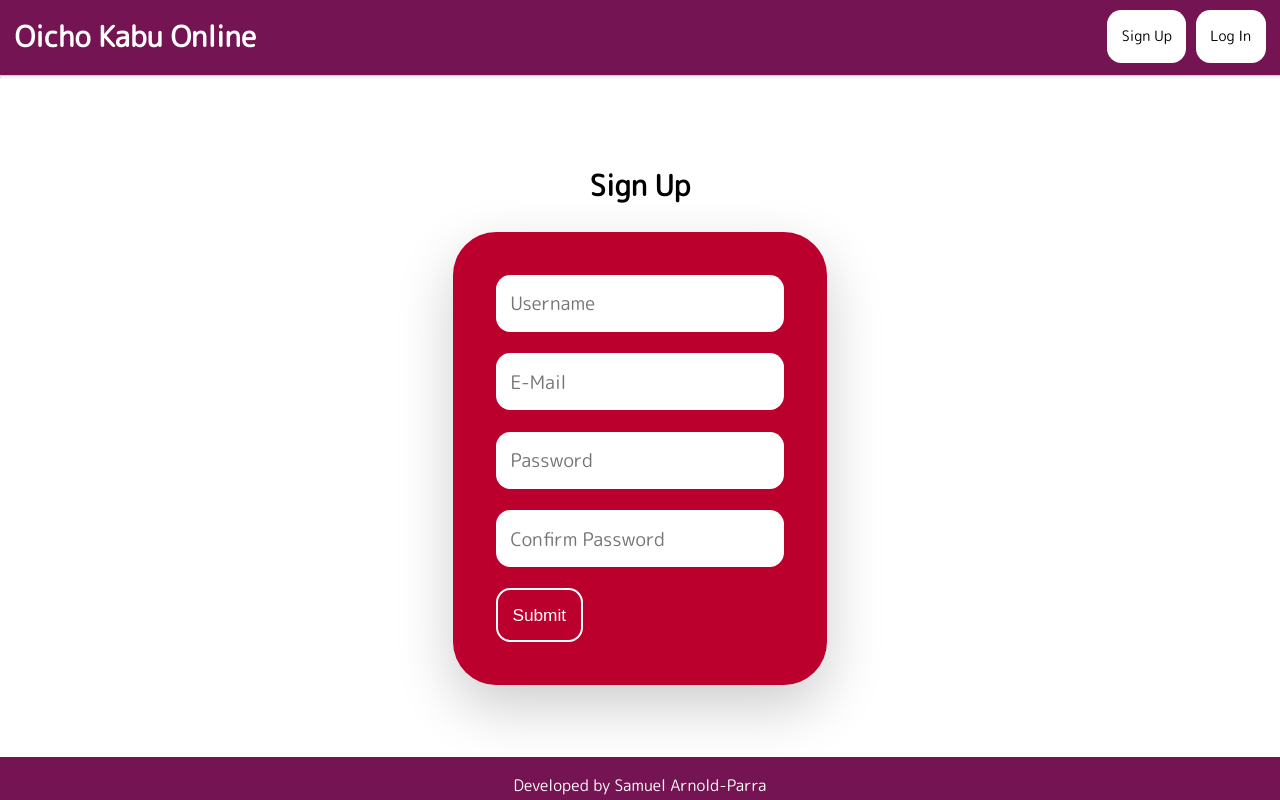
Test: SignUp › prompts a toast when the email is not in the correct format
This screenshot has width=1280, height=800.
Type "test_user" into the field with placeholder "Username".
click(640, 303); type("test_user")  # box [496, 275, 784, 332]
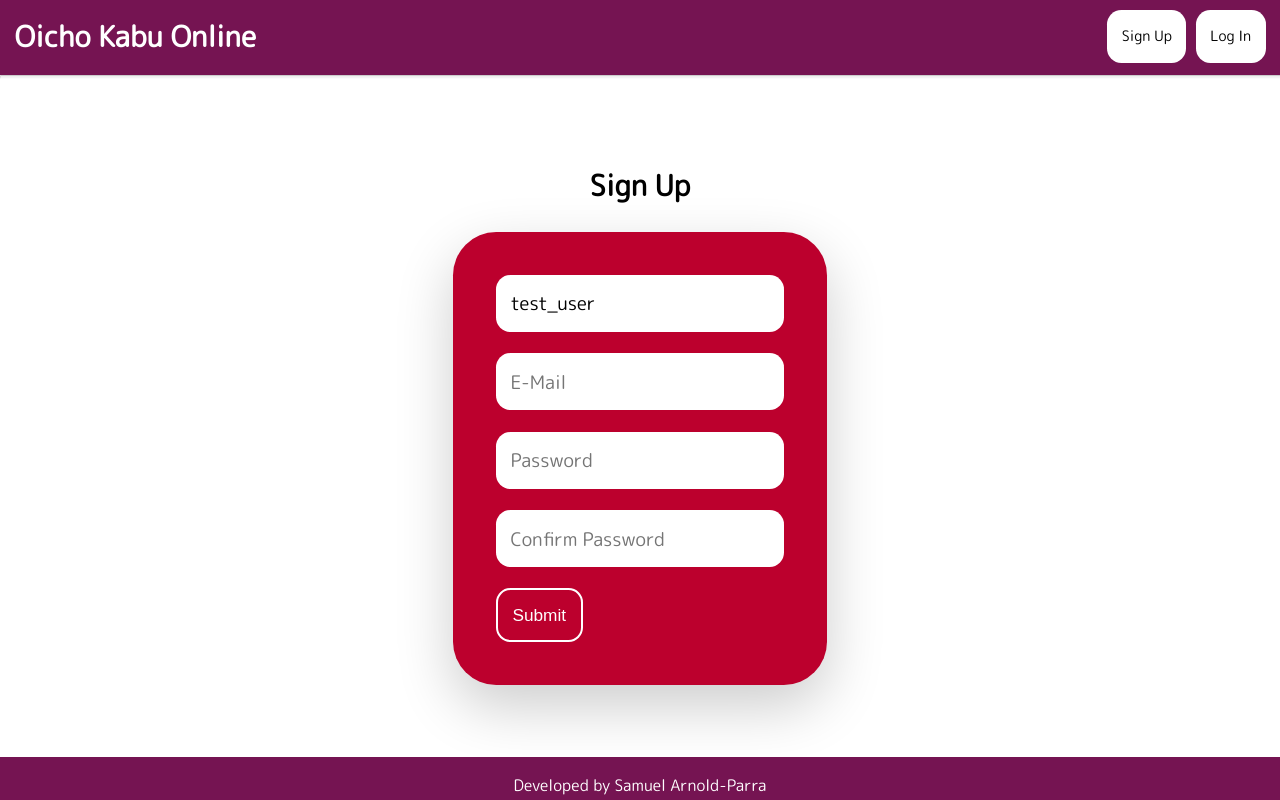
Type "test@example" into the field with placeholder "E-Mail".
click(640, 382); type("test@example")  # box [496, 353, 784, 410]
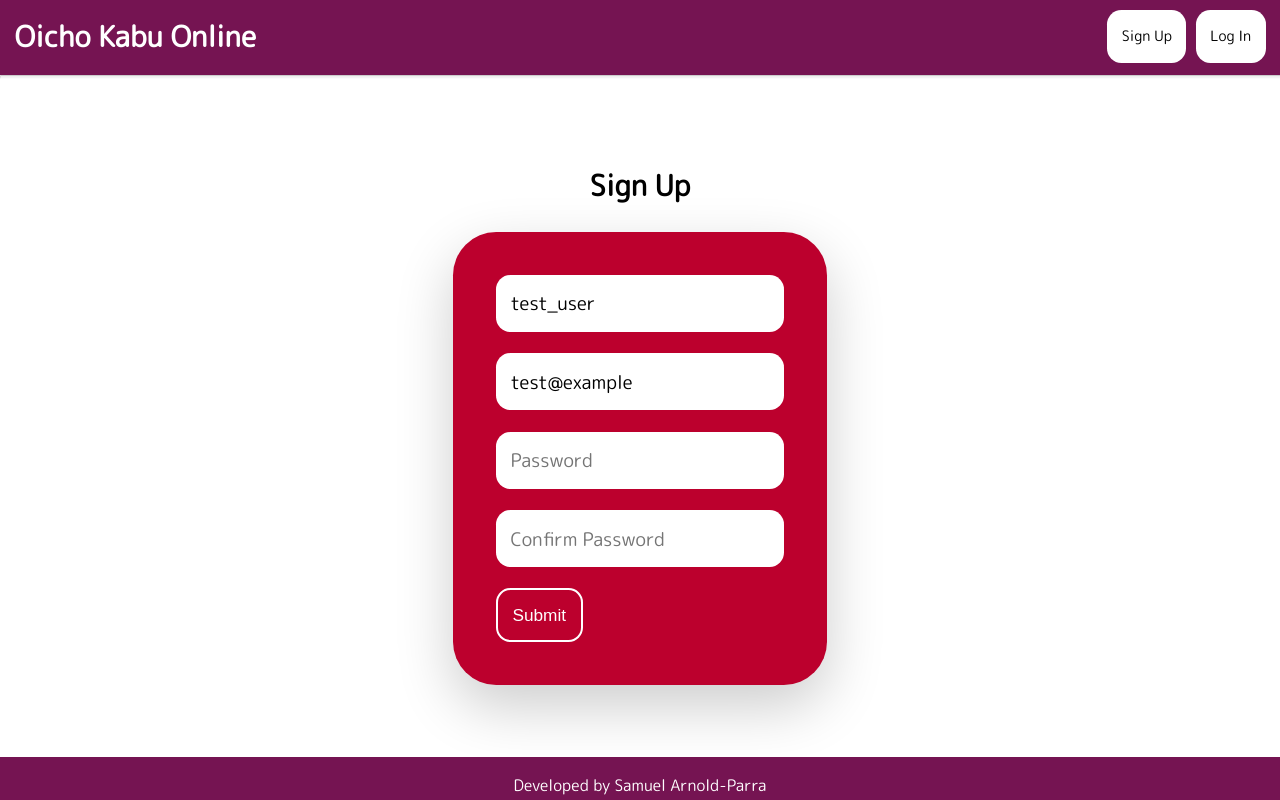
Type "test_password" into the password field with placeholder "Password".
click(640, 460); type("test_password")  # box [496, 432, 784, 488]
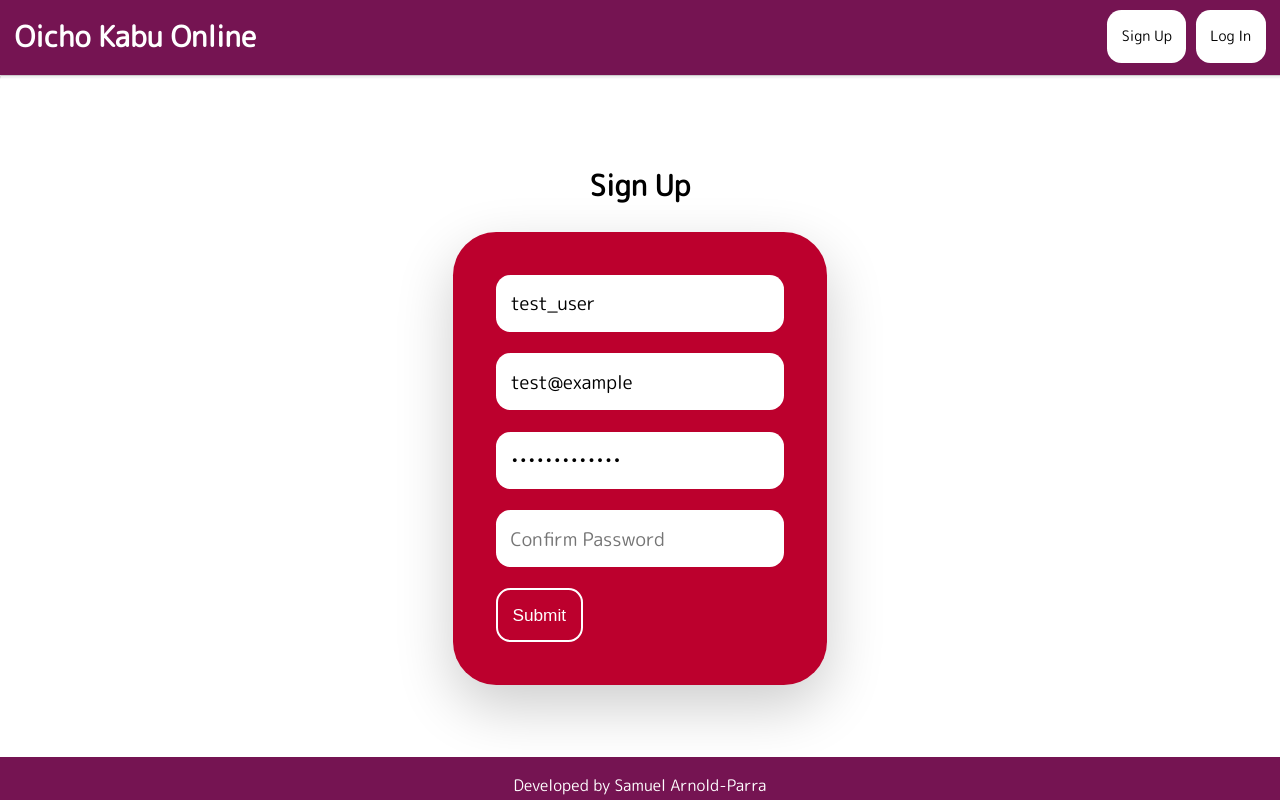
Type "test_password" into the password field with placeholder "Confirm Password".
click(640, 538); type("test_password")  # box [496, 510, 784, 567]
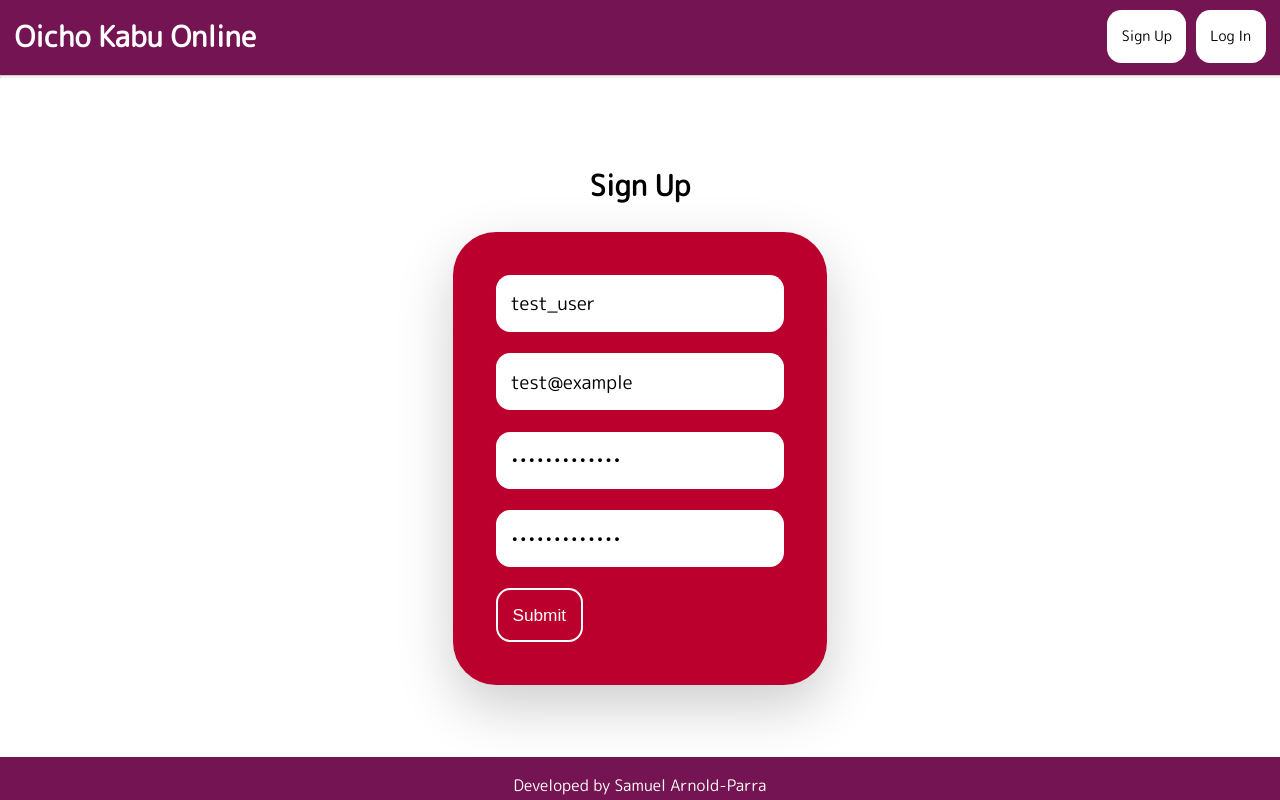
Click the button "Submit".
click(539, 615)  # box [496, 588, 582, 642]
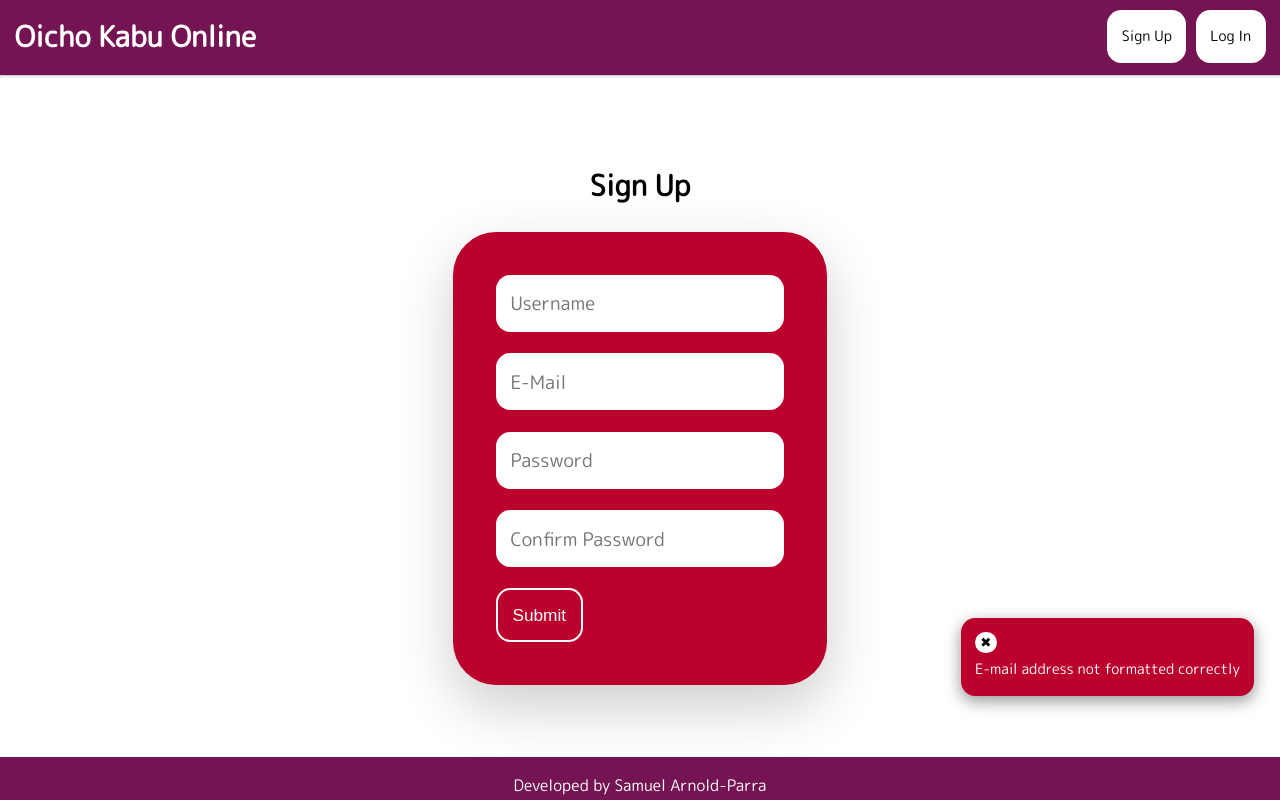
Expected: the text "E-mail address not formatted correctly" is shown, [975, 657, 1240, 682]
